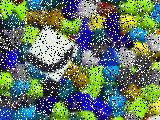Left: (23, 25, 80, 83)
